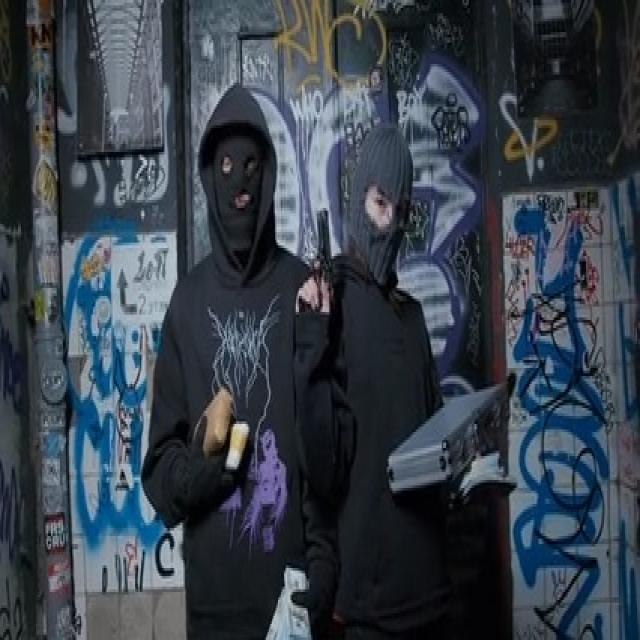Gun_Holder: (300, 207, 351, 333)
Person: (141, 70, 334, 640), (335, 117, 477, 640)
